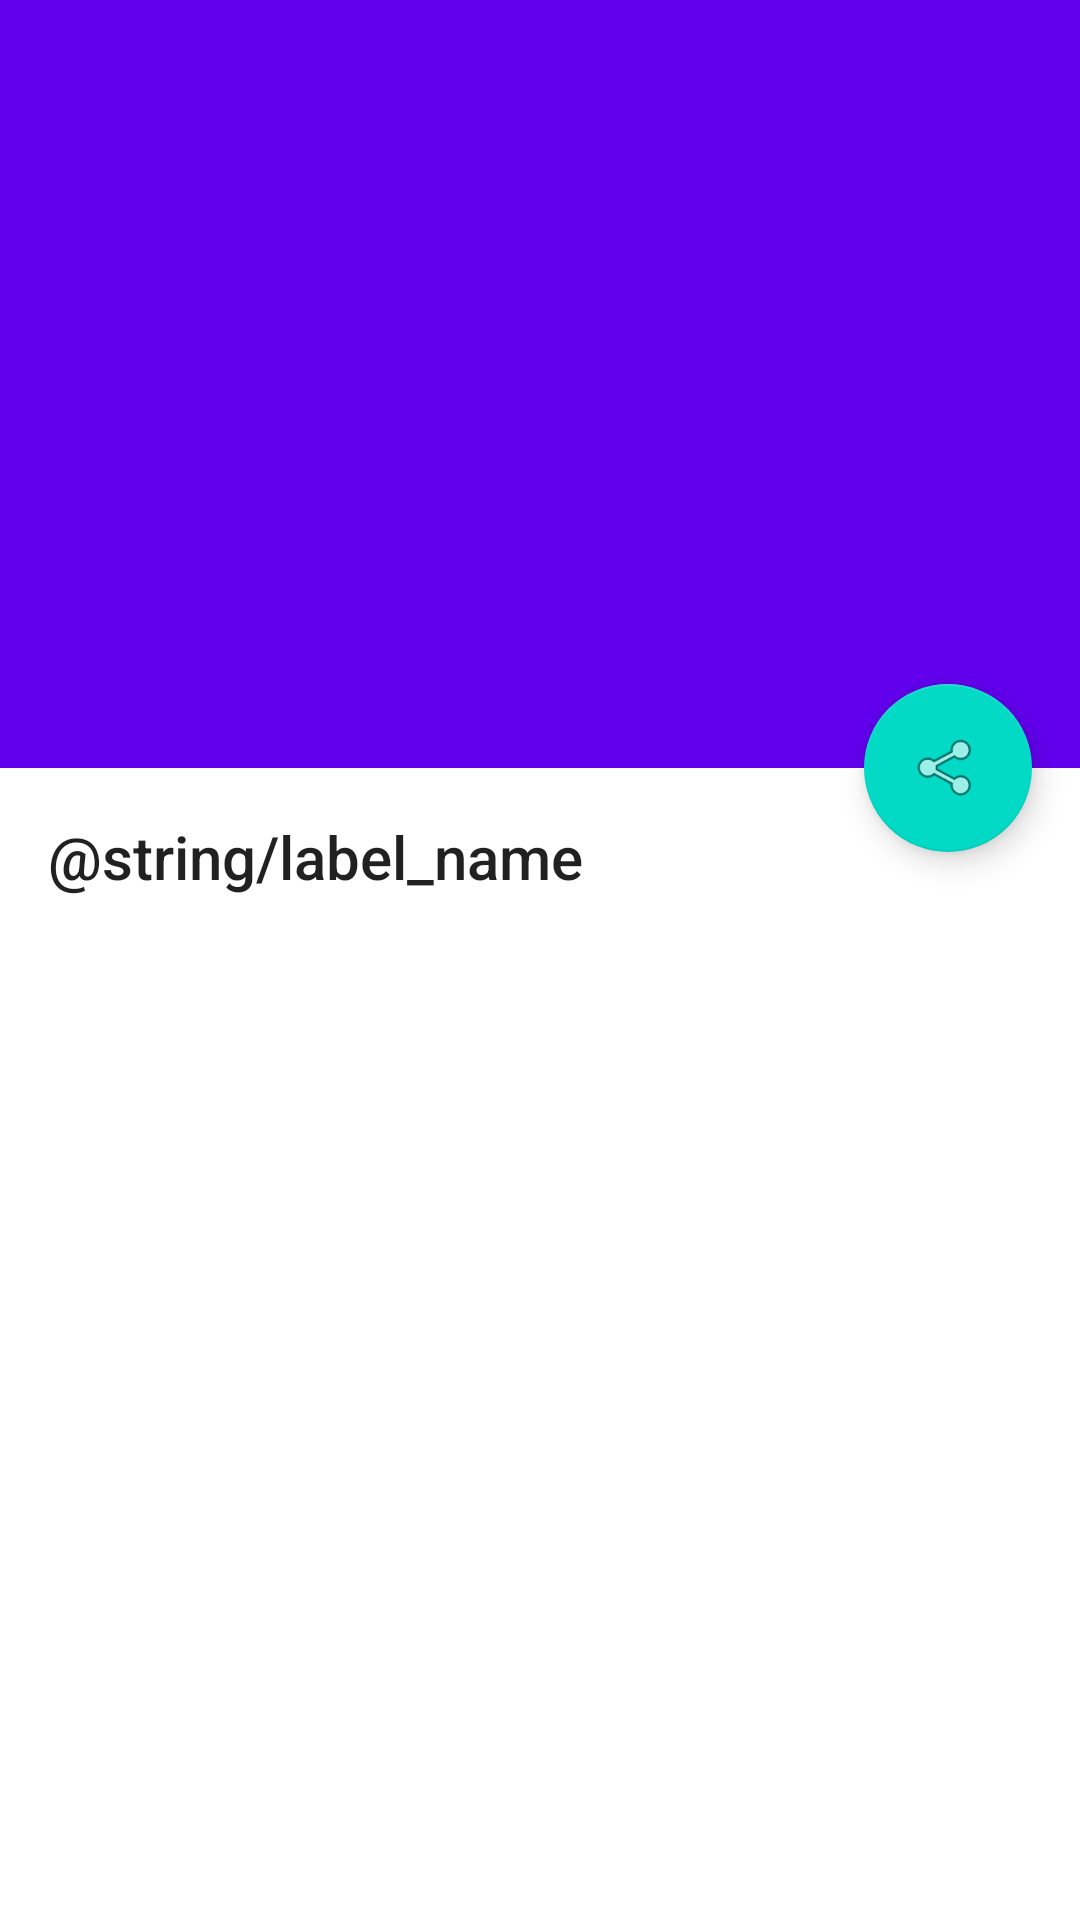

Icons on this 1080*1920 Android screen, each with the point to tap as (x=x, y=y):
share: (x=948, y=768)
